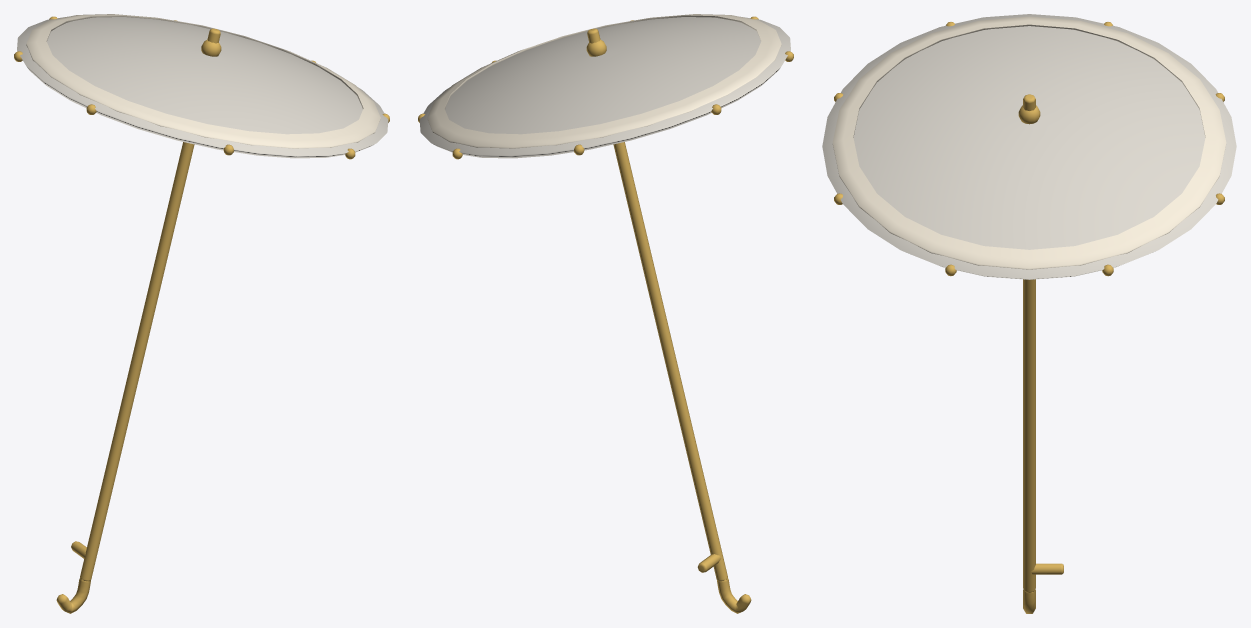
The model's file is lacy_parasol.glb.
3 renders of one model, left to right at view 1: azimuth 30°, elevation 25°; view 2: azimuth 150°, elevation 25°; view 3: azimuth 270°, elevation 25°, orthographic. The views are drawn at different scales.
Parts seen in each view (by area): view 1: lacy_parasol_ArmR; view 2: lacy_parasol_ArmR; view 3: lacy_parasol_ArmR.
Boxes of the visible parts, left/top/right/bottom form: lacy_parasol_ArmR: left=14, top=14, right=389, bottom=613; lacy_parasol_ArmR: left=418, top=14, right=793, bottom=613; lacy_parasol_ArmR: left=822, top=14, right=1236, bottom=613.
Bounding box in the file's own units: 0.8703 × 1.42 × 0.9.
